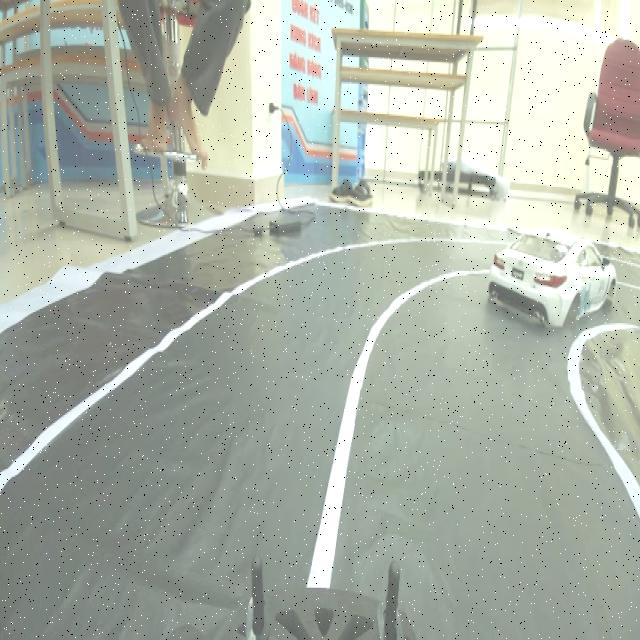car: (483, 200, 619, 336)
